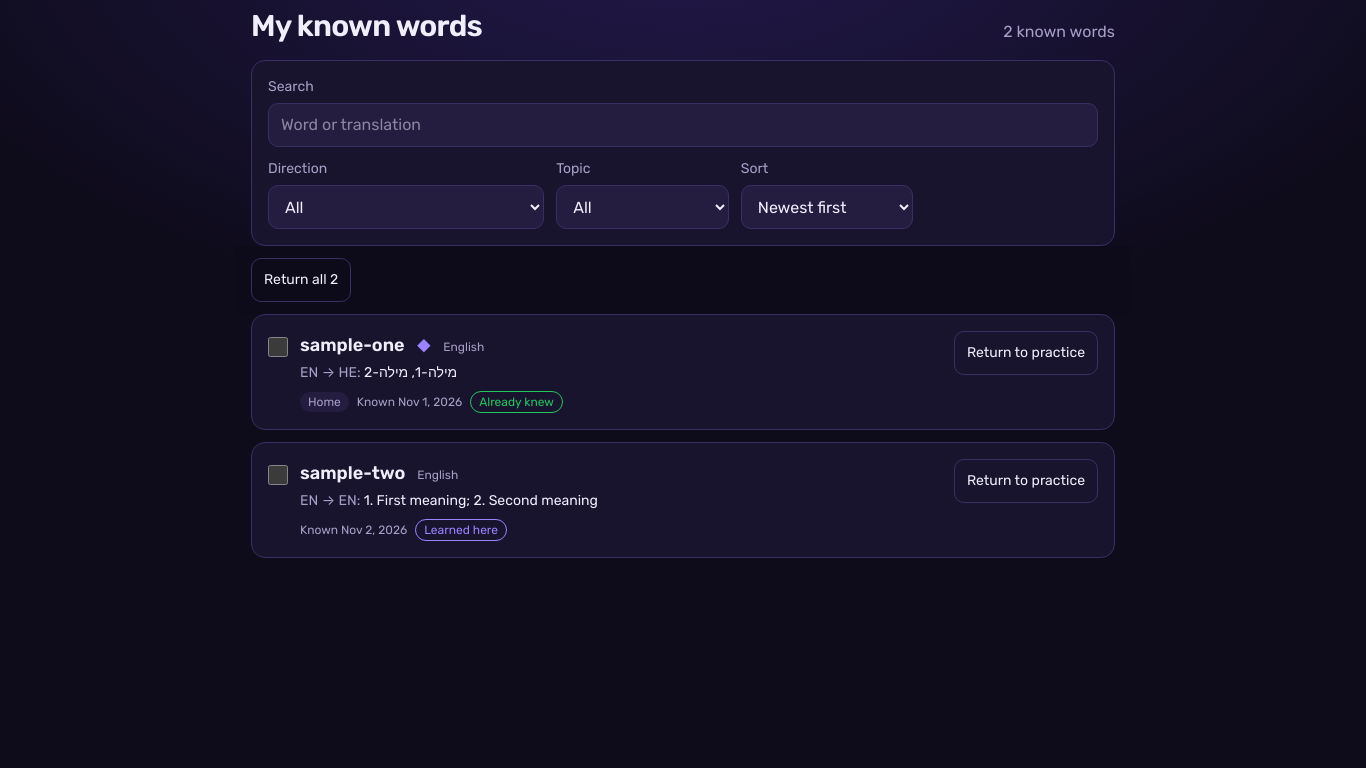
KnownPage › returns one row to the practices
The image size is (1366, 768).
Click the button "Return to practice" in the row of "sample-one": x=1026, y=353 x1=954 y1=331 x2=1098 y2=375
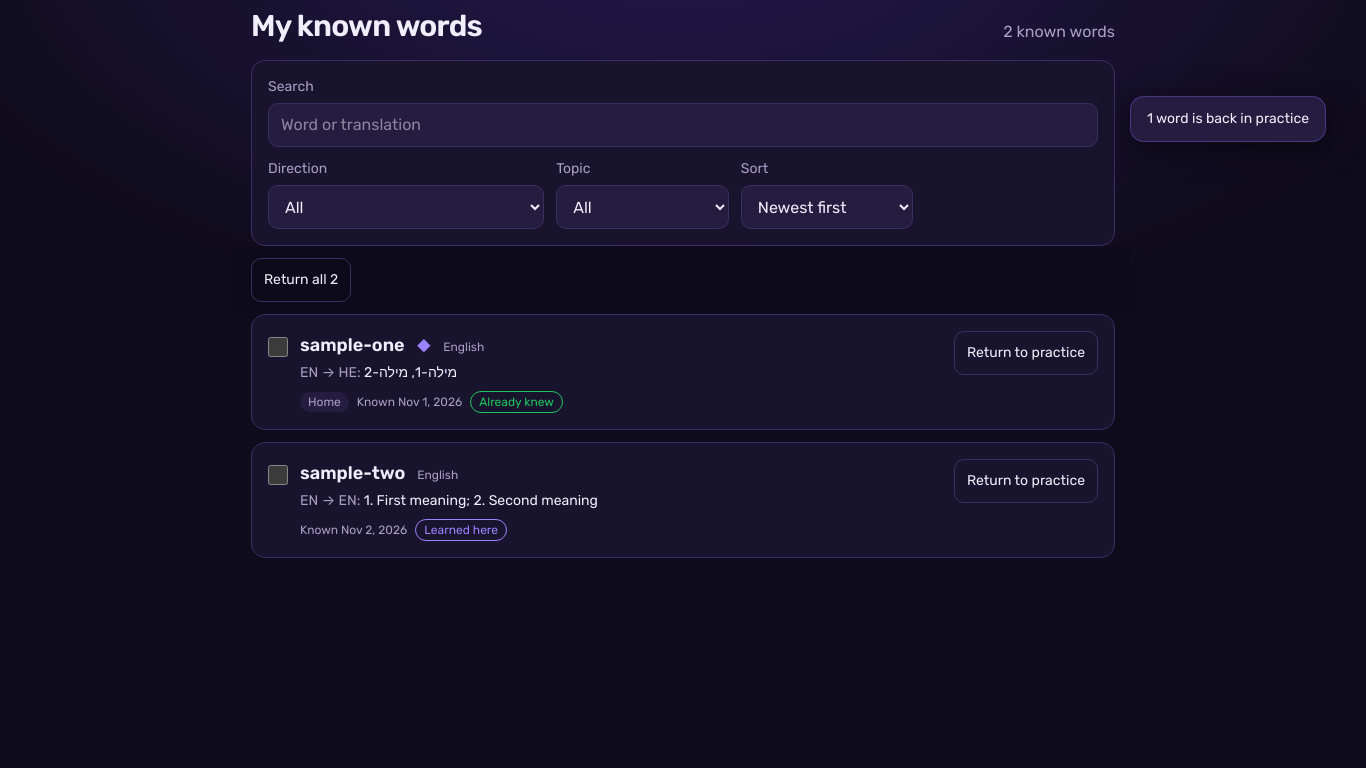
expect the text "1 word is back in practice" is shown: met, box x1=1147 y1=109 x2=1309 y2=129
